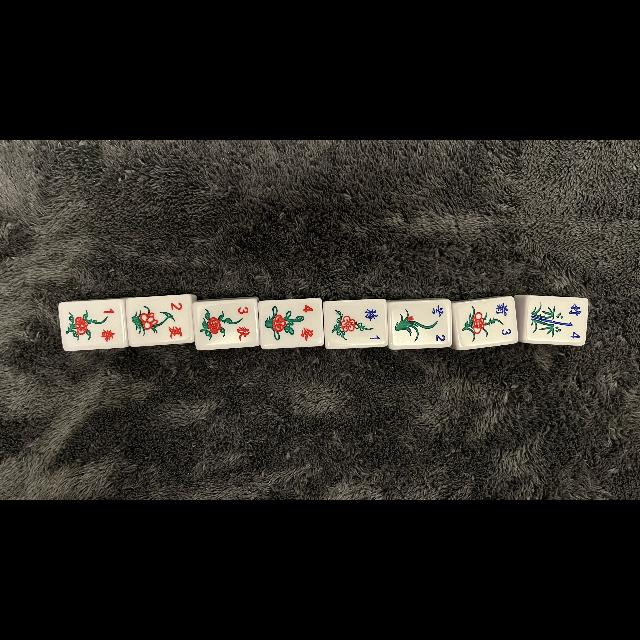f1: (362, 301, 386, 347)
f2: (426, 302, 450, 346)
f3: (490, 300, 514, 346)
f4: (562, 297, 588, 343)
s1: (98, 300, 122, 348)
s2: (164, 298, 190, 344)
s3: (232, 302, 256, 346)
s4: (296, 300, 320, 346)
